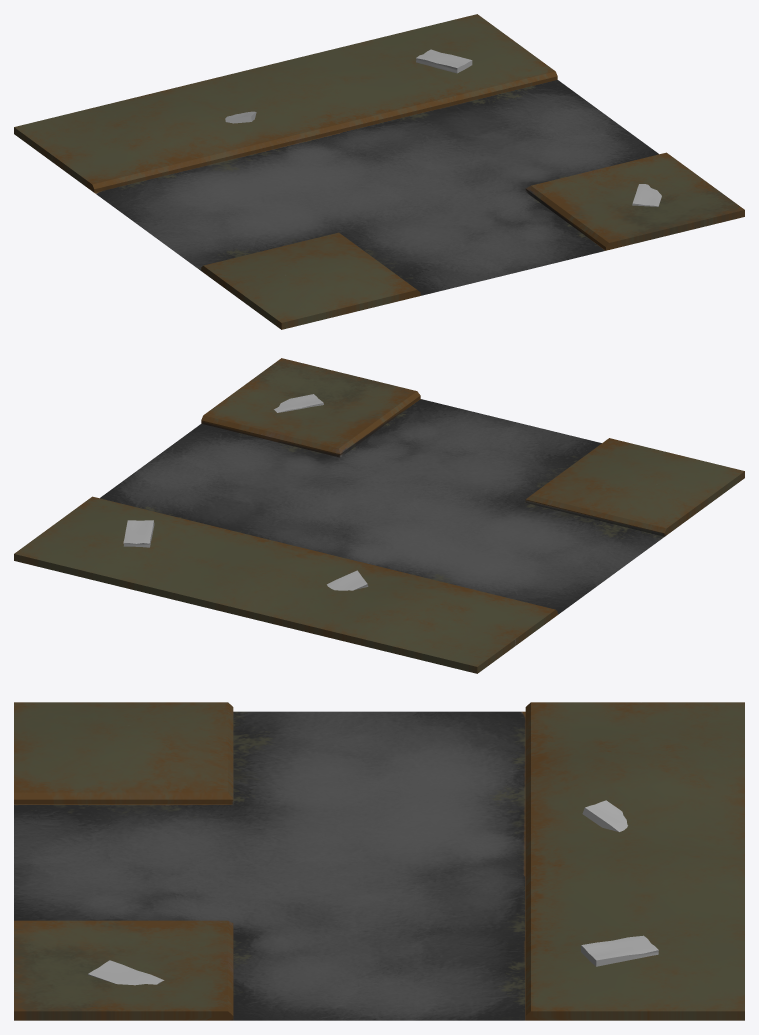
The model's file is T-tile high.fbx.
3 renders of one model, top to bottom at view 1: azimuth 30°, elevation 25°; view 2: azimuth 150°, elevation 25°; view 3: azimuth 270°, elevation 25°, orthographic. The views are drawn at different scales.
Parts seen in each view (by area): view 1: polySurface5; view 2: polySurface5; view 3: polySurface5.
Part boxes in pixels (x1,y1,x2,y2): polySurface5: (14,14,744,329); polySurface5: (14,358,744,673); polySurface5: (14,702,744,1020).
Bounding box in the file's own units: 1300 × 57.26 × 1300.
2 materials, 1 textured.
